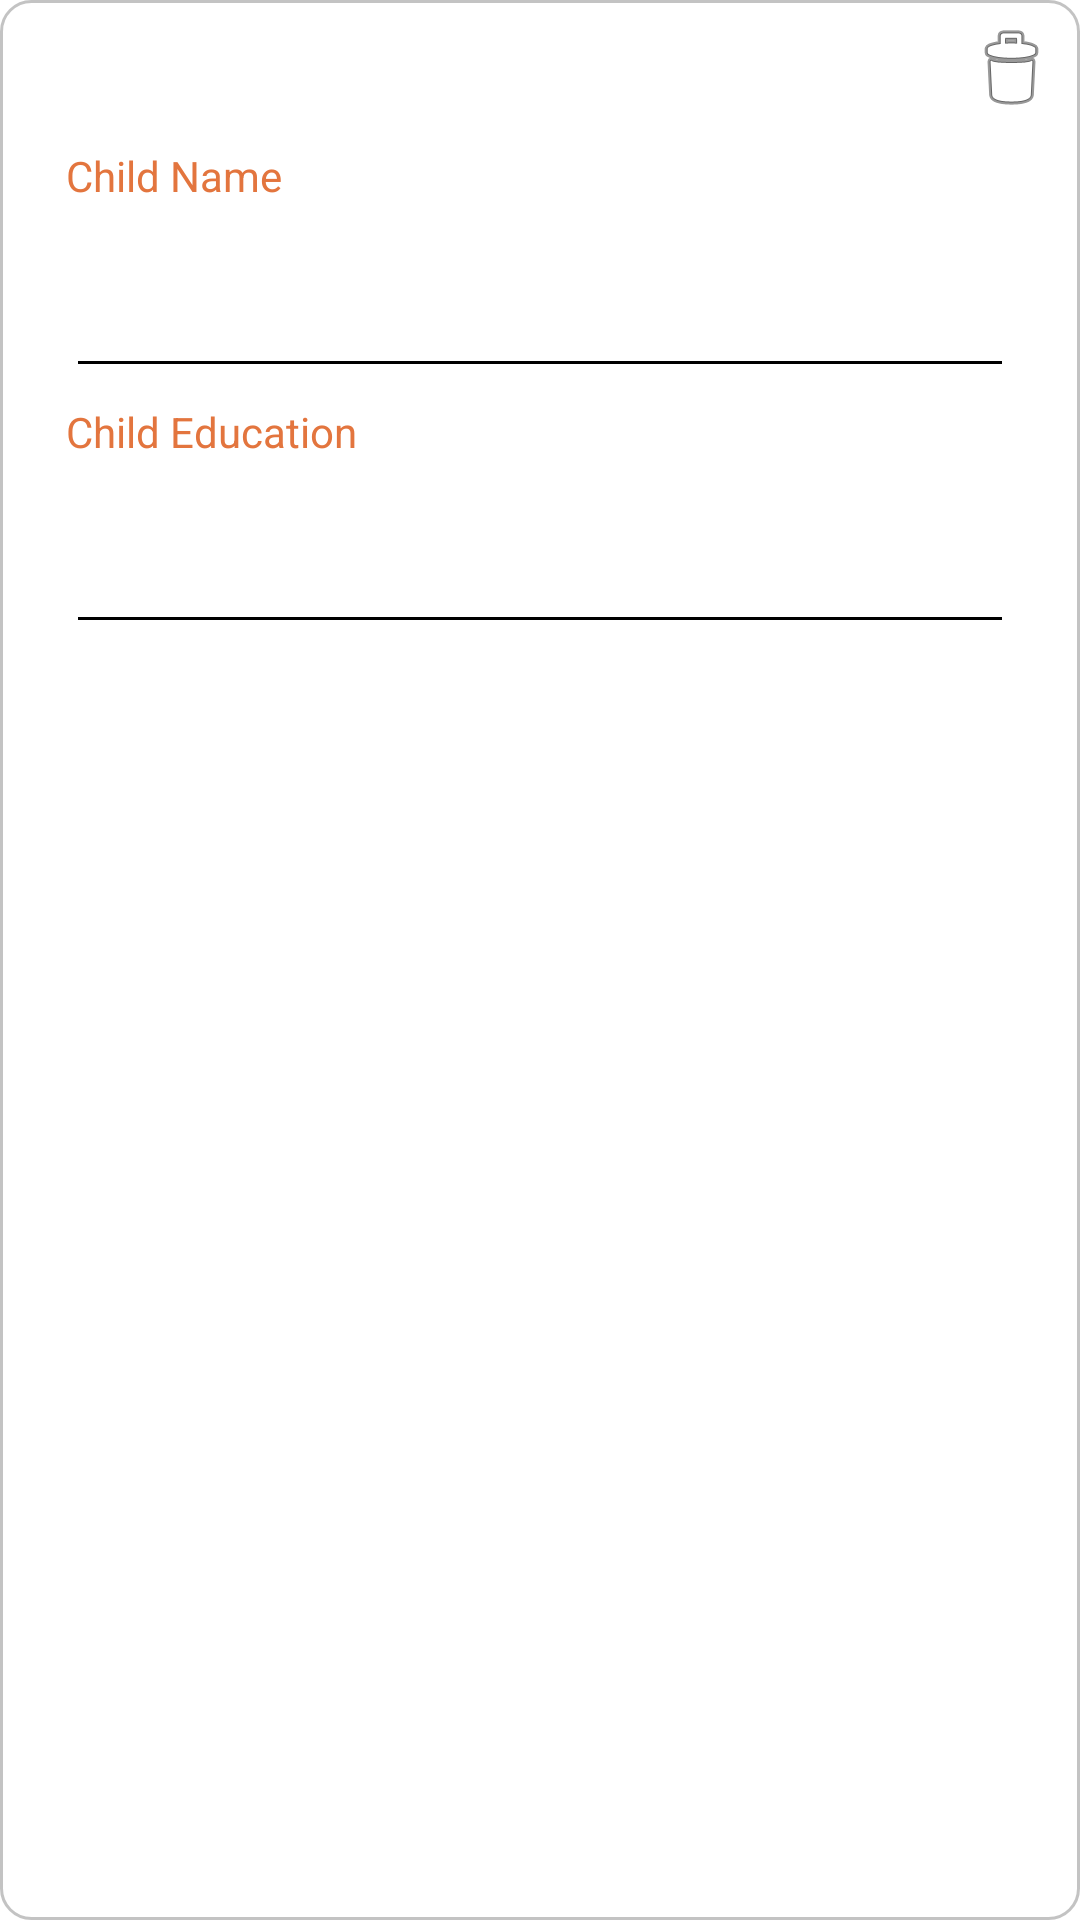

Point at icon controls on the screen. Image size 1080w x 1920h, points as point (x, y).
delete: point (1011, 67)
